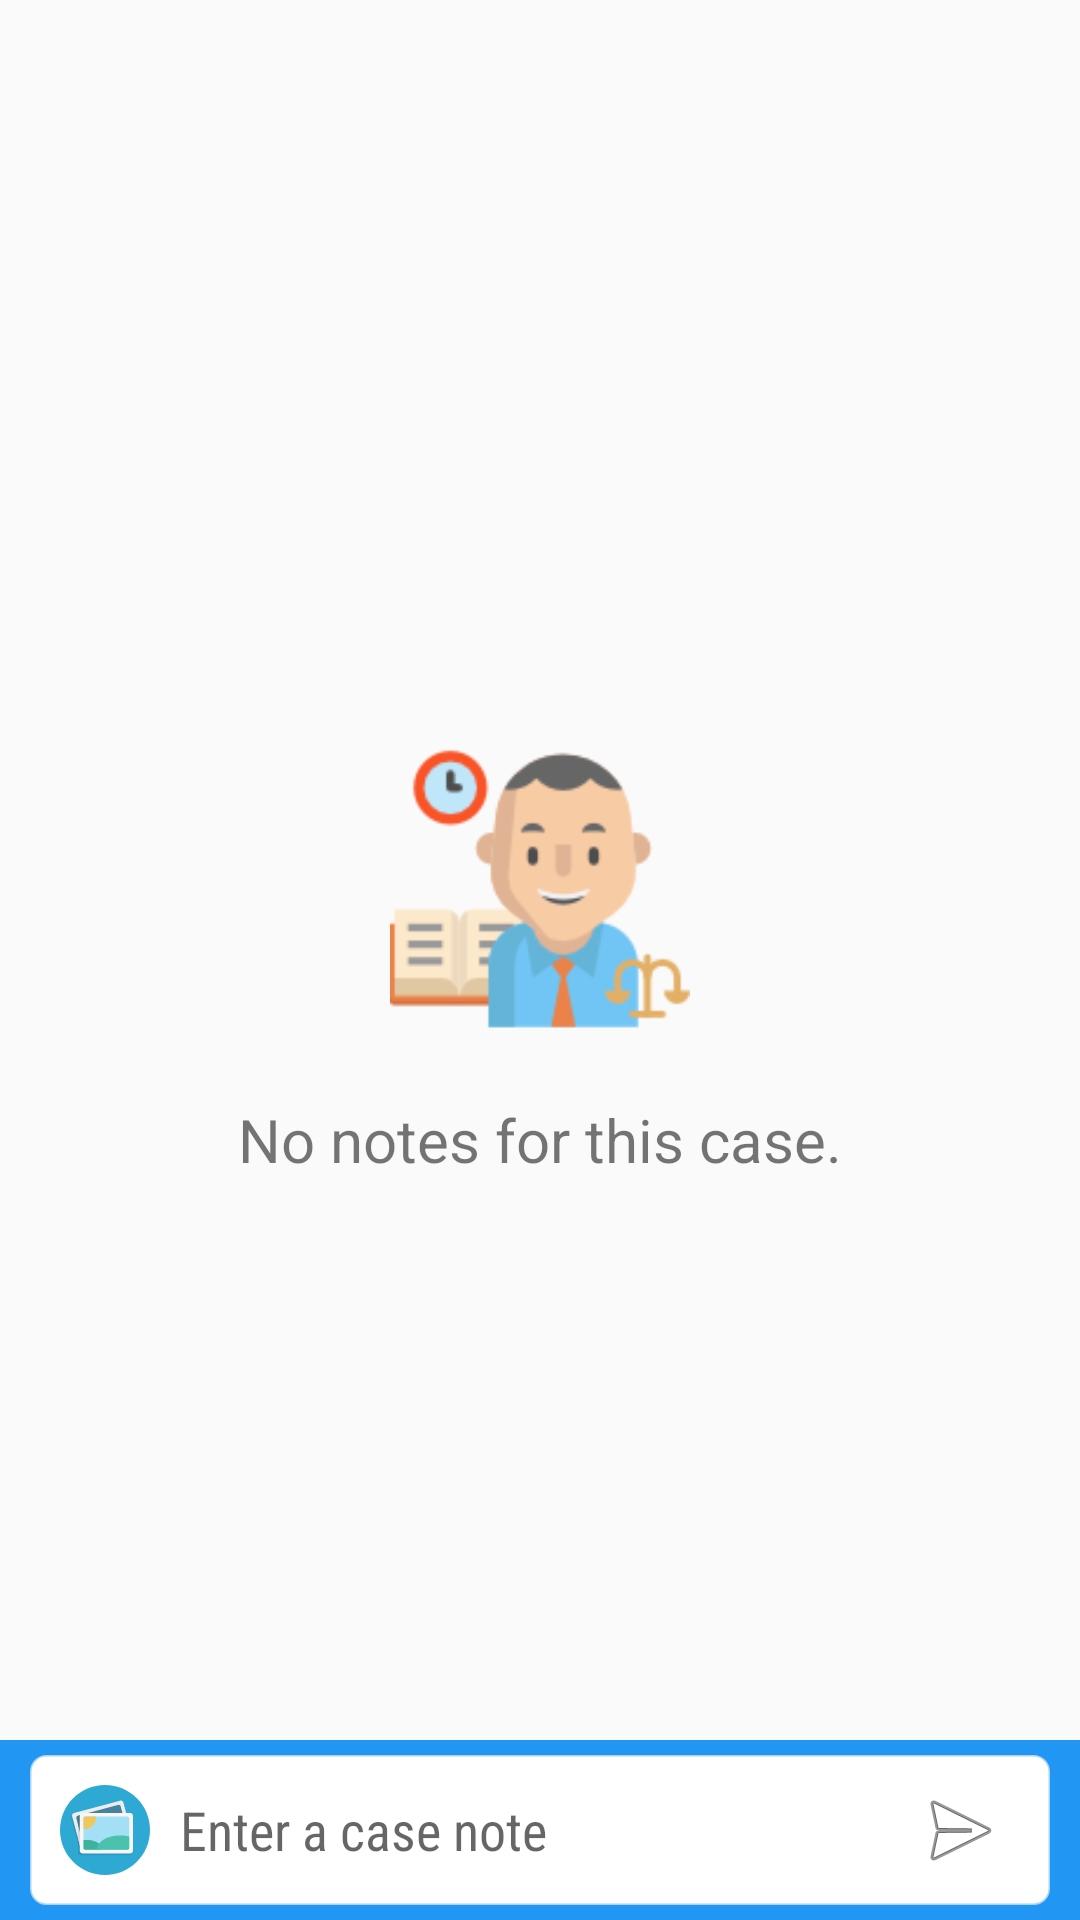

Screen size 1080px×1920px. Icon name, then its center in pixels as [x,y]:
lawyer: [540,889]
send: [960,1830]
